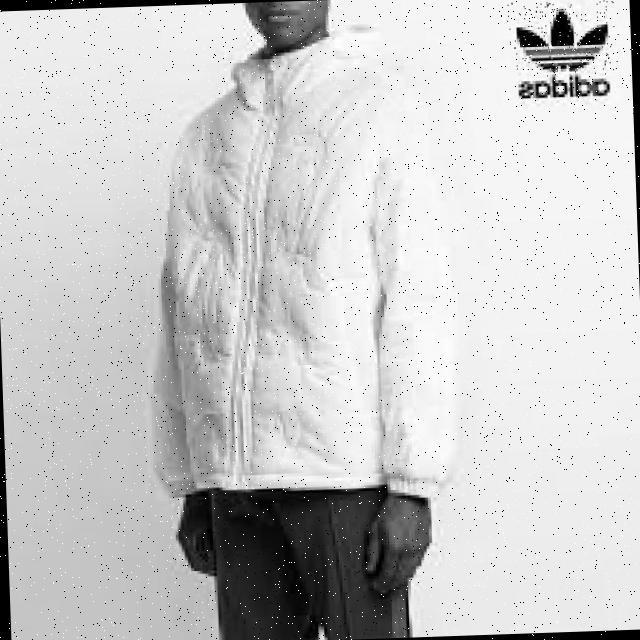Adidas: (506, 0, 620, 79)
